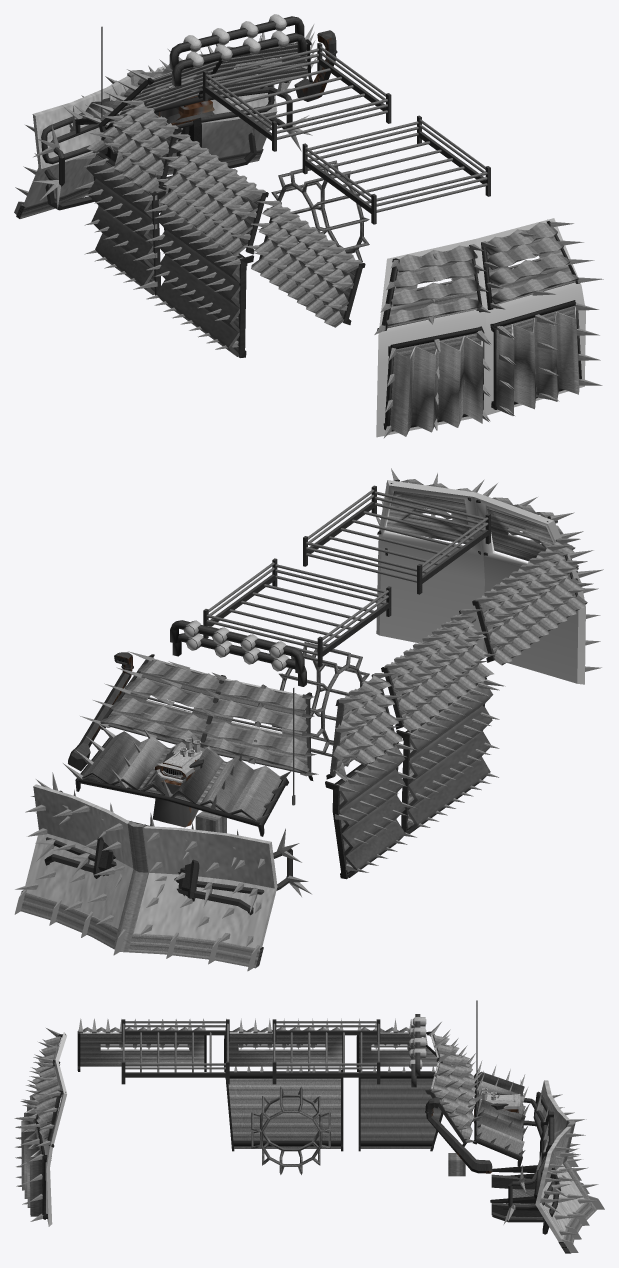
The model's file is VanArmor.fbx.
The picture shows the model from 3 angles, top to bottom: view 1: azimuth 30°, elevation 25°; view 2: azimuth 150°, elevation 25°; view 3: azimuth 270°, elevation 25°; orthographic projection. The views are drawn at different scales.
Parts seen in each view (by area): view 1: trunkreinforcedrear, roofrack, windowrearreinforcedleft, plow, windowreinforcedrear, Trunk_obj, doorrearreinforcedleft, doorfrontreinforcedleft, windowfrontreinforcedleft, windowheavyrear, windowlightfront, windowheavyspikedfront (+23 smaller); view 2: plow, Trunk_obj, roofrack, plow_spiked, windowrearreinforcedleft, windowreinforcedfront, hoodreinforcedfront, doorrearreinforcedleft, doorfrontreinforcedleft, windowheavyfront, windowheavyrear, windowfrontreinforcedleft (+24 smaller); view 3: windowrearheavyleft, roofrack, doorrearheavyleft, doorfrontheavyleft, plow, windowreinforcedfront, hoodreinforcedfront, chaintires, windowfrontheavyleft, trunkreinforcedrear, plow_spiked, windowreinforcedrear (+21 smaller).
Part boxes in pixels (x1,y1,x2,y2): trunkreinforcedrear: [390, 300, 579, 436]; roofrack: [203, 42, 490, 224]; windowrearreinforcedleft: [160, 136, 358, 327]; plow: [14, 58, 277, 218]; windowreinforcedrear: [386, 222, 578, 326]; Trunk_obj: [376, 218, 585, 437]; doorrearreinforcedleft: [156, 206, 247, 356]; doorfrontreinforcedleft: [86, 152, 158, 294]; windowfrontreinforcedleft: [87, 103, 173, 193]; windowheavyrear: [377, 221, 579, 330]; windowlightfront: [109, 42, 307, 123]; windowheavyspikedfront: [81, 24, 316, 131]; plow: [14, 784, 277, 971]; Trunk_obj: [376, 480, 585, 684]; roofrack: [203, 485, 490, 667]; plow_spiked: [15, 787, 274, 947]; windowrearreinforcedleft: [388, 541, 587, 731]; windowreinforcedfront: [100, 659, 309, 773]; hoodreinforcedfront: [77, 731, 281, 827]; doorrearreinforcedleft: [403, 682, 493, 833]; doorfrontreinforcedleft: [333, 744, 405, 877]; windowheavyfront: [101, 654, 313, 780]; windowheavyrear: [377, 479, 578, 580]; windowfrontreinforcedleft: [333, 675, 402, 781]; windowrearheavyleft: [77, 1031, 342, 1071]; roofrack: [121, 1019, 380, 1084]; doorrearheavyleft: [225, 1070, 343, 1151]; doorfrontheavyleft: [358, 1070, 443, 1151]; plow: [490, 1080, 604, 1253]; windowreinforcedfront: [433, 1035, 475, 1140]; hoodreinforcedfront: [474, 1071, 525, 1160]; chaintires: [251, 1086, 330, 1174]; windowfrontheavyleft: [356, 1033, 437, 1071]; trunkreinforcedrear: [21, 1093, 45, 1219]; plow_spiked: [539, 1094, 598, 1235]; windowreinforcedrear: [32, 1036, 61, 1139].
Bounding box in the file's own units: 282 × 225 × 680.
